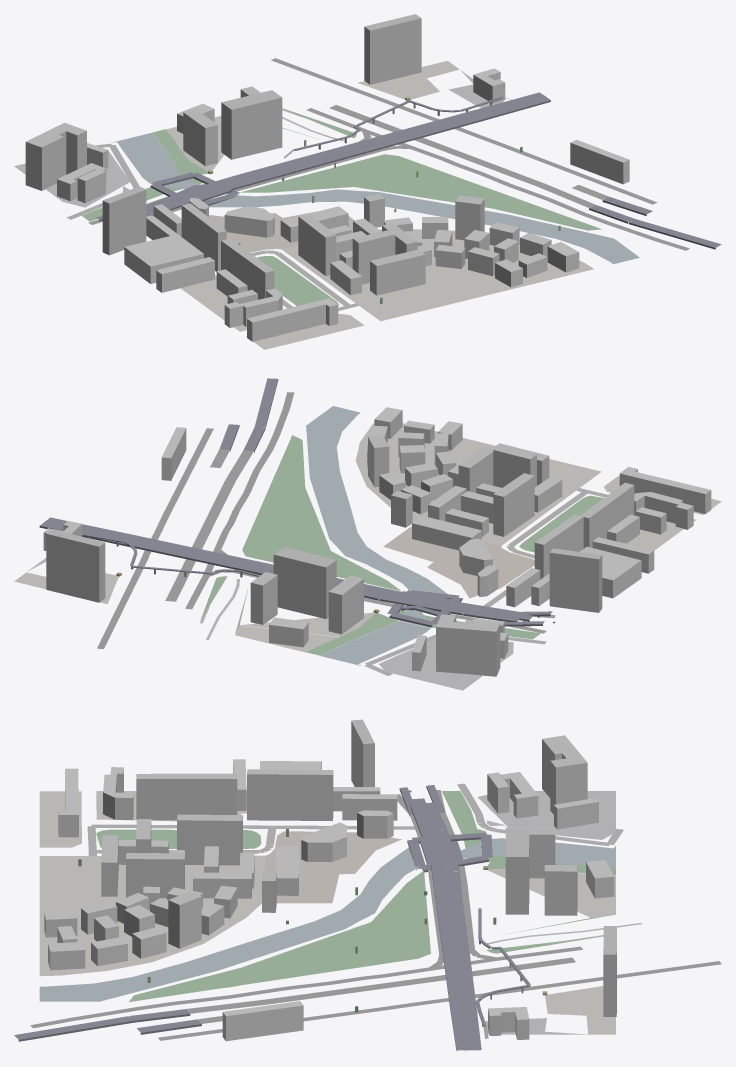
3 renders of one model, top to bottom at view 1: azimuth 30°, elevation 25°; view 2: azimuth 150°, elevation 25°; view 3: azimuth 270°, elevation 25°, orthographic. The views are drawn at different scales.
Bounding box in the file's own units: 564 × 61.25 × 614.
